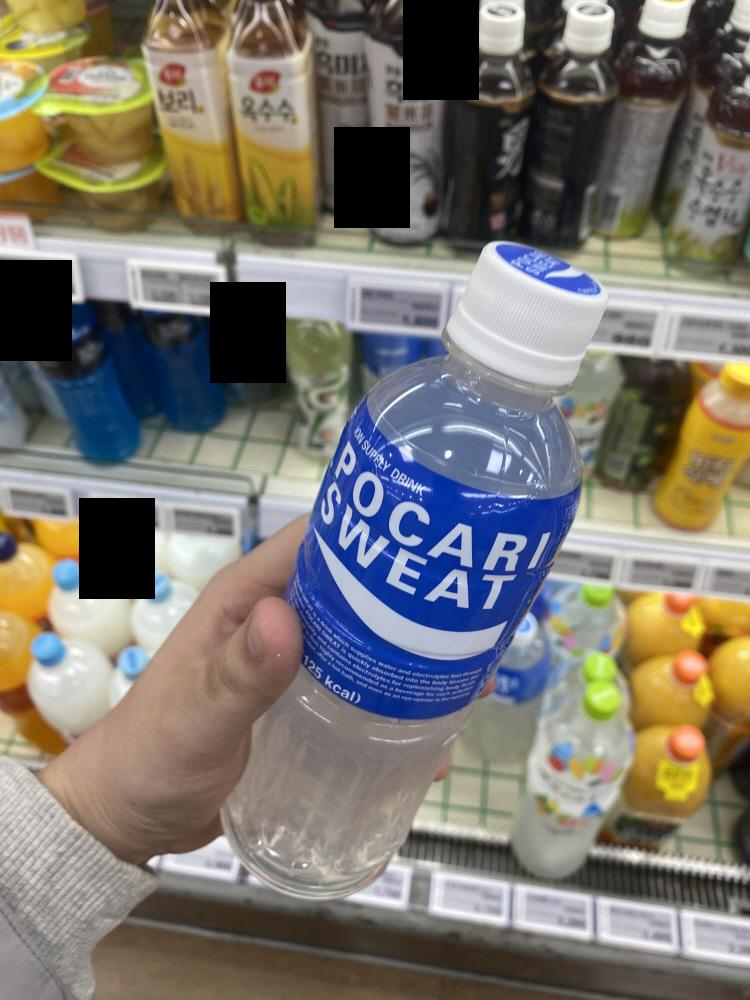pocarisweat: (203, 248, 613, 912)
